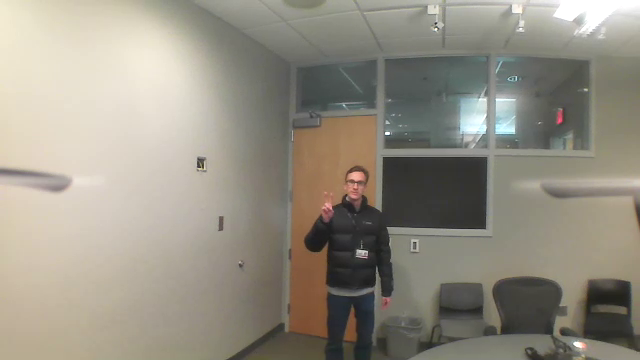peace: (315, 190, 337, 222)
